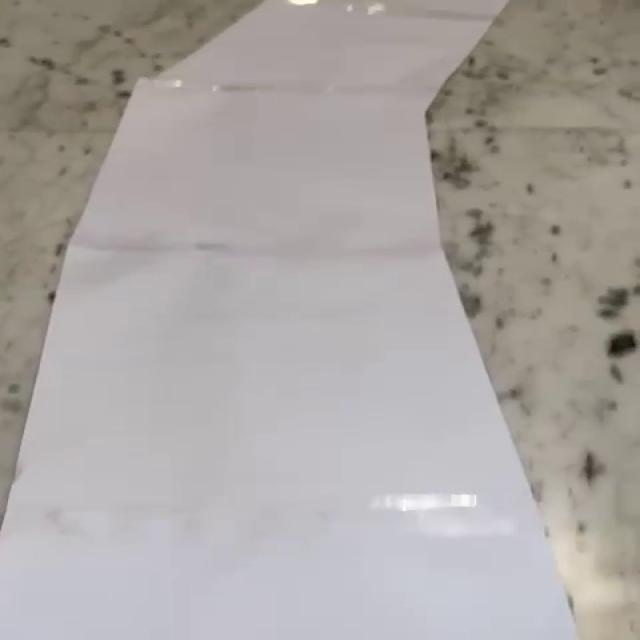road: (3, 0, 575, 640)
